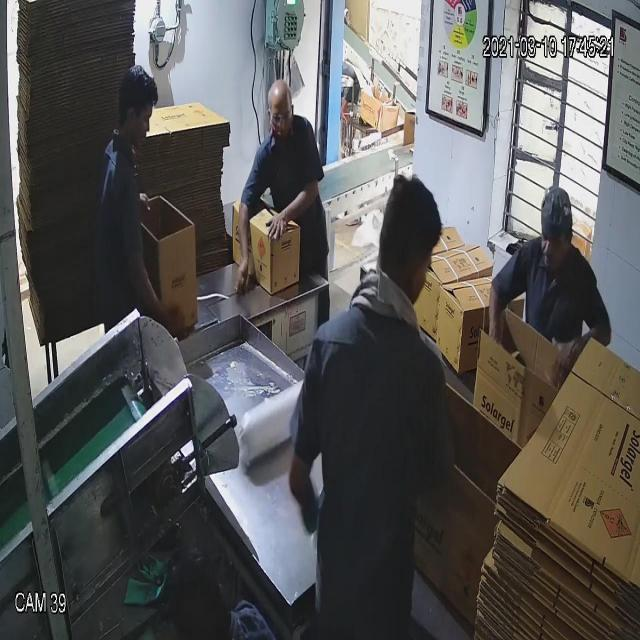No_Gloves: (28, 70, 581, 350)
